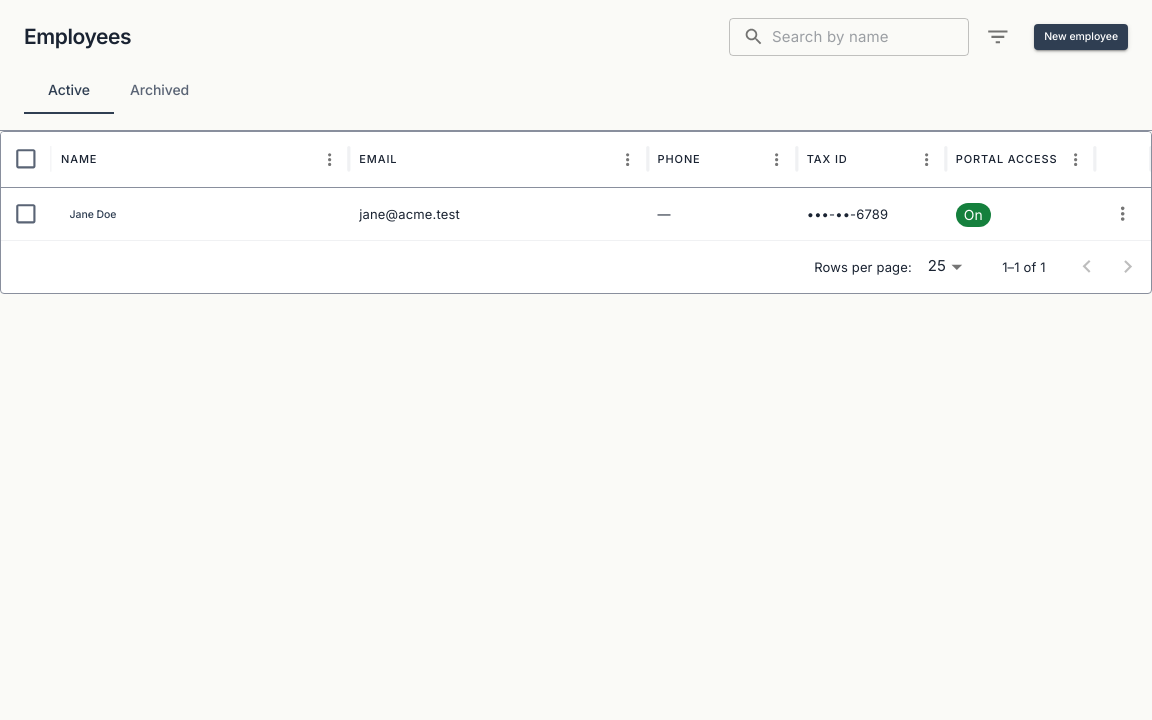
it: Employees (M0005-R026) › searches by name and tax ID from the header, with chips for active filters (I0001-R029)
The width and height of the screenshot is (1152, 720).
Expected: the button "Jane Doe" is shown, x1=61 y1=202 x2=125 y2=228
Type "jan" into the search field labelled "Search by name" at (870, 37), box x1=772 y1=18 x2=969 y2=56
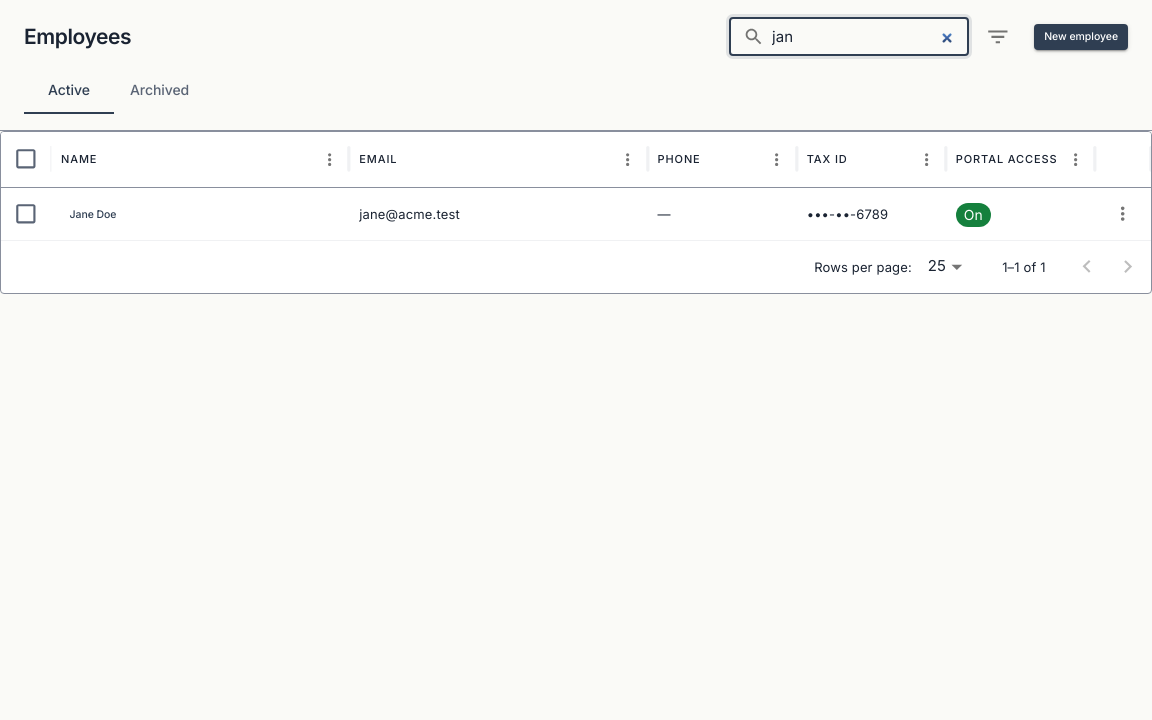
Click the button named "Filters" at (997, 37), box x1=976 y1=16 x2=1018 y2=58
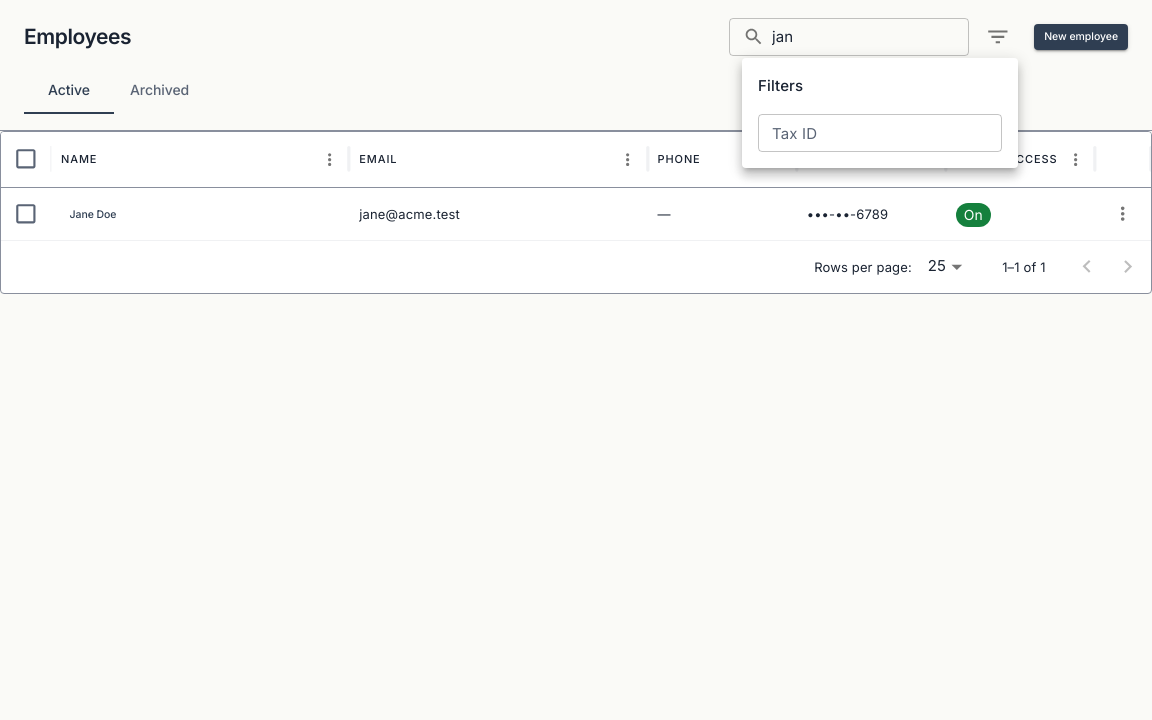
Type "123456789" into the field labelled "Tax ID" at (880, 133), box x1=758 y1=114 x2=1002 y2=152
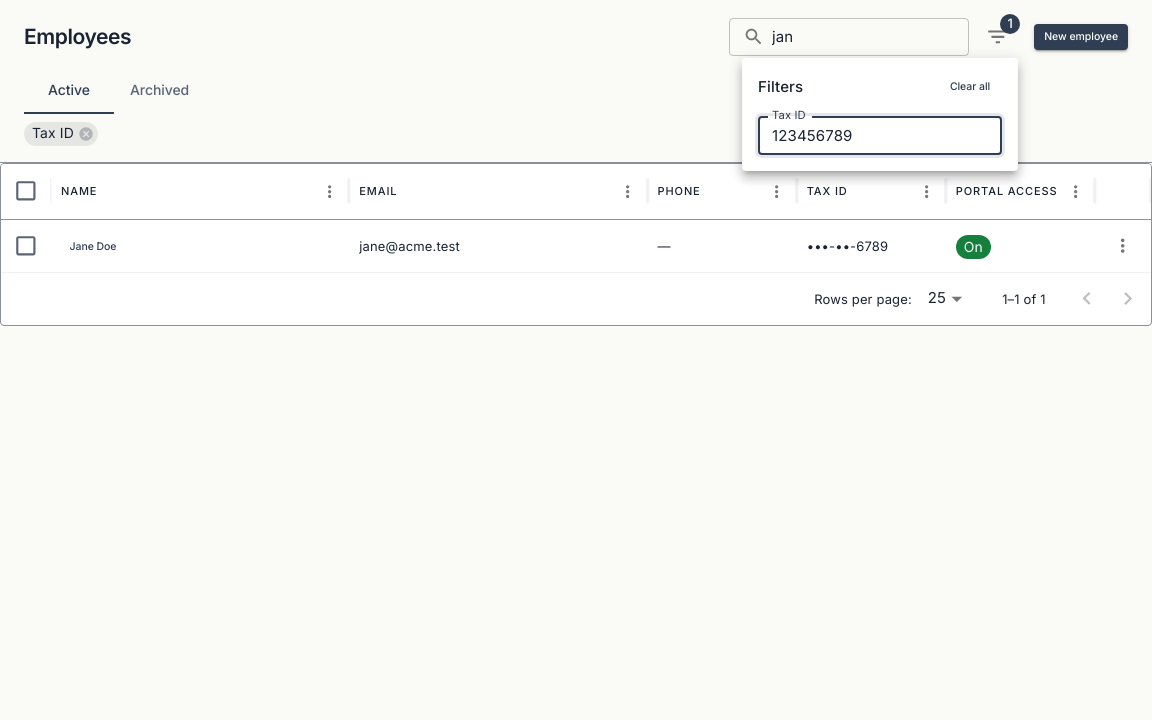
Press Escape
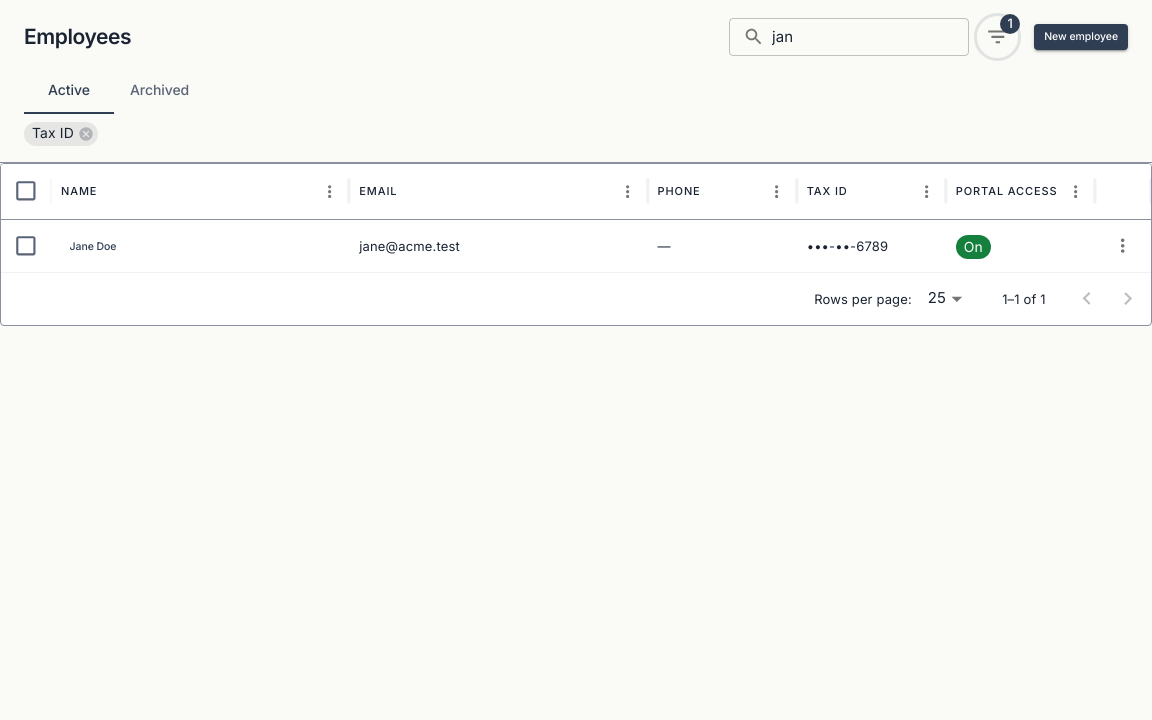
Expected: the text "Tax ID" below "Employees" is shown, x1=32 y1=125 x2=74 y2=141
Note: I0011-R006: switching views keeps the search and filters.
Click the tab "Archived" at (160, 90), box x1=114 y1=66 x2=205 y2=114
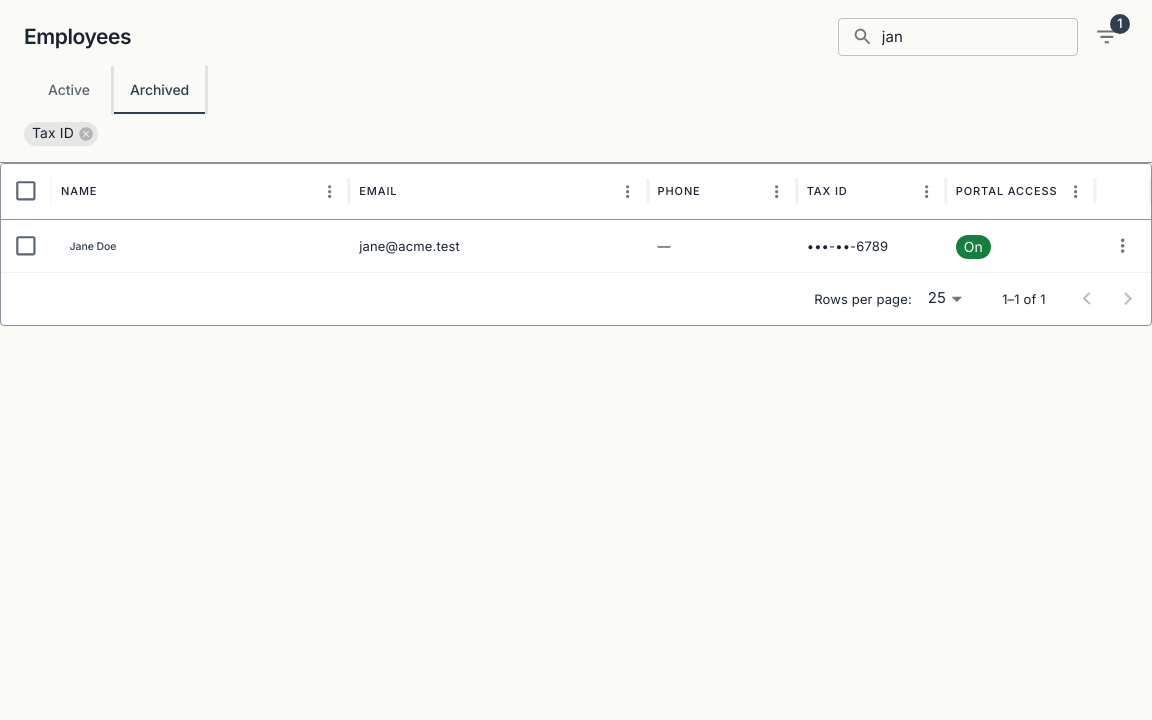
Expected: the button "New employee" is gone
